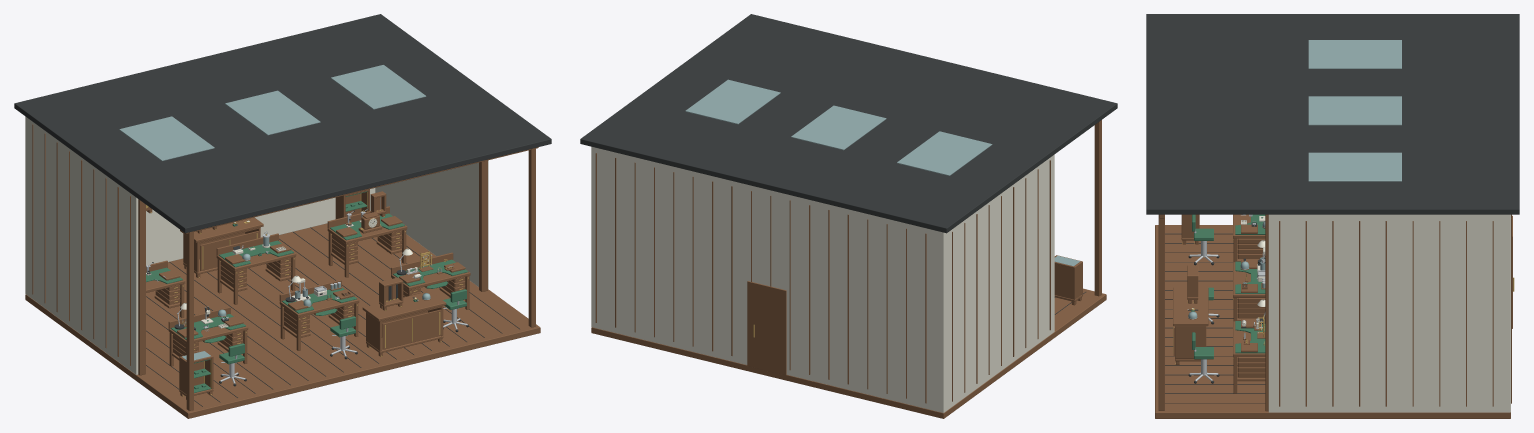
Rendered from clockmaker-and-watch-repair-walnut-and-b-5e830b90-starter-scene__30645.glb.
The picture shows the model from 3 angles, left to right: view 1: azimuth 30°, elevation 25°; view 2: azimuth 150°, elevation 25°; view 3: azimuth 270°, elevation 25°; orthographic projection. The views are drawn at different scales.
Parts seen in each view (by area): view 1: 000-roofed-clockmaker-shop/1, 000-roofed-clockmaker-shop/0, 000-roofed-clockmaker-shop/2, 000-roofed-clockmaker-shop/5, 066-shop-reception-counter/0, 035-watchmaker-bench/0, 036-watchmaker-bench/0, 005-watchmaker-bench/0, 059-shop-reception-counter/0, 001-watchmaker-bench/0, 009-watchmaker-bench/0, 034-watchmaker-bench/0 (+4 smaller); view 2: 000-roofed-clockmaker-shop/2, 000-roofed-clockmaker-shop/1, 000-roofed-clockmaker-shop/0, 000-roofed-clockmaker-shop/5, 065-glass-watch-case/0; view 3: 000-roofed-clockmaker-shop/1, 000-roofed-clockmaker-shop/2, 000-roofed-clockmaker-shop/0, 000-roofed-clockmaker-shop/5, 066-shop-reception-counter/0, 009-watchmaker-bench/0, 005-watchmaker-bench/0, 001-watchmaker-bench/0, 009-watchmaker-bench/1, 067-strap-display/1, 065-glass-watch-case/0, 005-watchmaker-bench/1.
Boxes of the visible parts, bbox=[...] form: 000-roofed-clockmaker-shop/1: bbox=[14, 14, 551, 406]; 000-roofed-clockmaker-shop/0: bbox=[25, 124, 540, 418]; 000-roofed-clockmaker-shop/2: bbox=[25, 116, 488, 374]; 000-roofed-clockmaker-shop/5: bbox=[119, 65, 426, 160]; 066-shop-reception-counter/0: bbox=[362, 291, 446, 356]; 035-watchmaker-bench/0: bbox=[216, 233, 296, 304]; 036-watchmaker-bench/0: bbox=[327, 206, 407, 277]; 005-watchmaker-bench/0: bbox=[279, 279, 359, 350]; 059-shop-reception-counter/0: bbox=[180, 217, 263, 277]; 001-watchmaker-bench/0: bbox=[168, 307, 248, 366]; 009-watchmaker-bench/0: bbox=[391, 252, 470, 309]; 034-watchmaker-bench/0: bbox=[146, 260, 185, 317]; 000-roofed-clockmaker-shop/2: bbox=[591, 146, 1054, 412]; 000-roofed-clockmaker-shop/1: bbox=[580, 14, 1117, 314]; 000-roofed-clockmaker-shop/0: bbox=[591, 120, 1106, 418]; 000-roofed-clockmaker-shop/5: bbox=[685, 79, 992, 175]; 065-glass-watch-case/0: bbox=[1054, 255, 1082, 305]; 000-roofed-clockmaker-shop/1: bbox=[1146, 14, 1519, 403]; 000-roofed-clockmaker-shop/2: bbox=[1268, 214, 1510, 412]; 000-roofed-clockmaker-shop/0: bbox=[1155, 214, 1512, 418]; 000-roofed-clockmaker-shop/5: bbox=[1308, 40, 1401, 181]; 066-shop-reception-counter/0: bbox=[1173, 287, 1208, 364]; 009-watchmaker-bench/0: bbox=[1233, 319, 1265, 393]; 005-watchmaker-bench/0: bbox=[1233, 259, 1265, 321]; 001-watchmaker-bench/0: bbox=[1233, 214, 1265, 261]; 009-watchmaker-bench/1: bbox=[1235, 321, 1265, 353]; 067-strap-display/1: bbox=[1187, 265, 1198, 303]; 065-glass-watch-case/0: bbox=[1181, 214, 1199, 244]; 005-watchmaker-bench/1: bbox=[1235, 261, 1265, 293].
Size of the model in its own units: 10.4 by 5.33 by 8.4.
